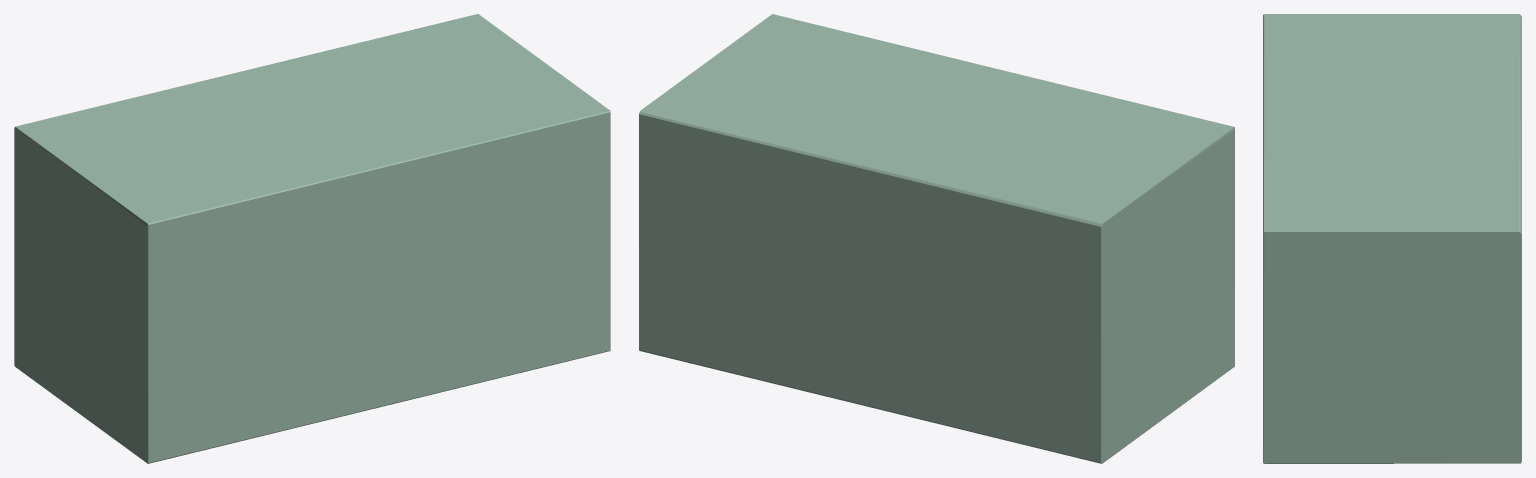
Rendered from needle_surgical_a01.glb.
3 views of the same model, side by side, from view 1: azimuth 30°, elevation 25°; view 2: azimuth 150°, elevation 25°; view 3: azimuth 270°, elevation 25° (orthographic). The views are drawn at different scales.
Visible parts, largest first — view 1: geometry_0; view 2: geometry_0; view 3: geometry_0.
Part boxes in pixels (x1,y1,x2,y2): geometry_0: (14,14,610,463); geometry_0: (639,14,1234,463); geometry_0: (1263,14,1521,463).
Bounding box in the file's own units: 0.4799 × 0.238 × 0.2407.
